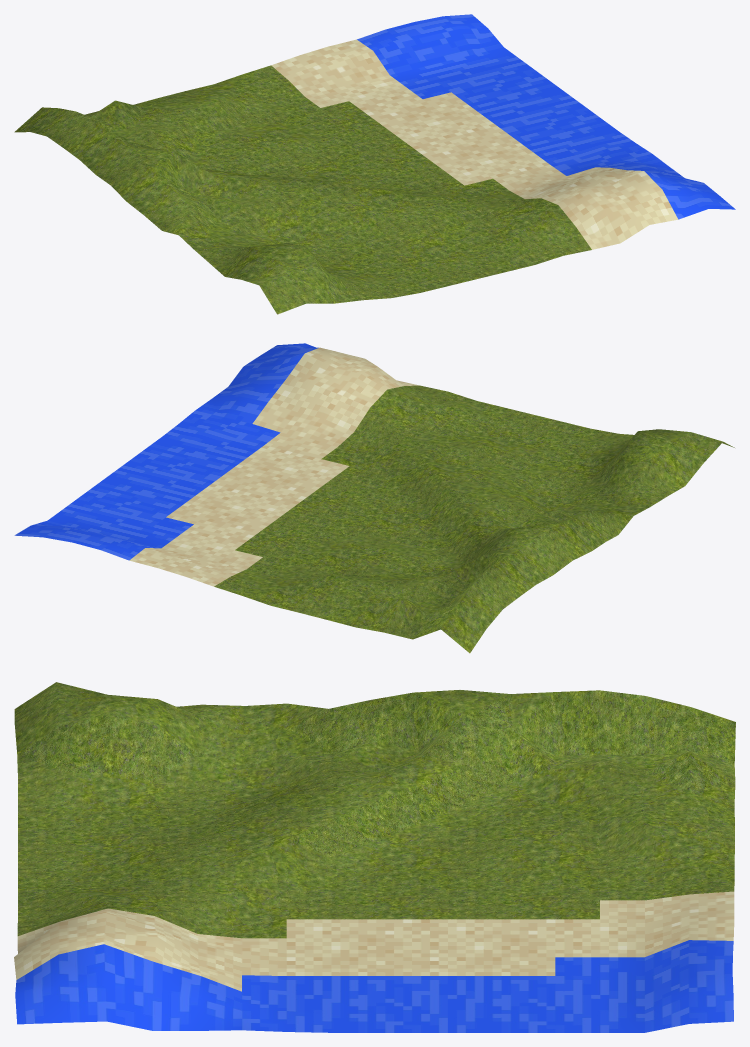
The model's file is Piso.fbx.
3 renders of one model, top to bottom at view 1: azimuth 30°, elevation 25°; view 2: azimuth 150°, elevation 25°; view 3: azimuth 270°, elevation 25°, orthographic. The views are drawn at different scales.
Visible parts, largest first — view 1: Arena; view 2: Arena; view 3: Arena.
Boxes of the visible parts, box(x1,y1,x2,y2) form: Arena: box(14, 14, 735, 314); Arena: box(14, 343, 734, 653); Arena: box(14, 682, 735, 1032).
Bounding box in the file's own units: 10145 × 928 × 10077.
Materials: 3 (3 with a texture image).
